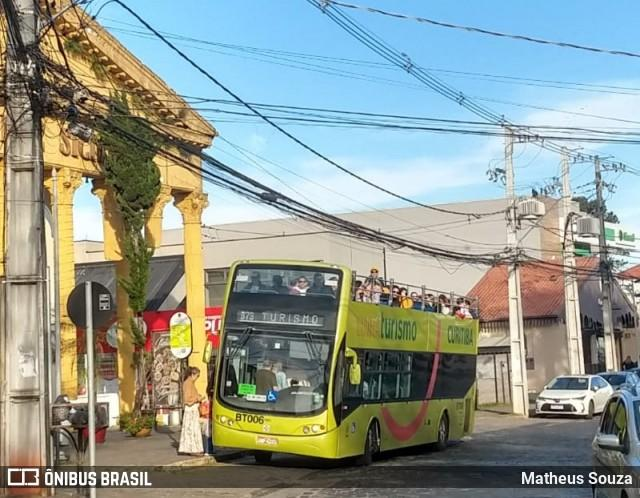TURISMO: (258, 310, 322, 329)
